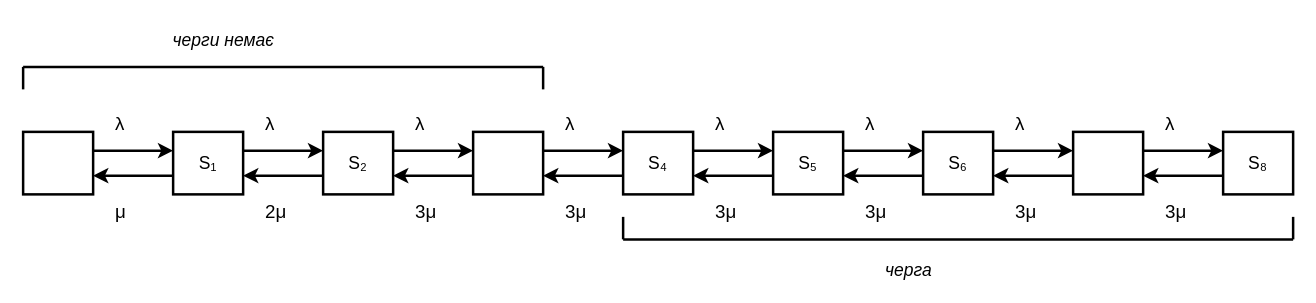
The diagram is 1316 pixels wide and 303 high, and some of its shapes have lost their labels. Here are the shapes that lost their labels. From the top down, the box of each, then its label:
(21, 130, 94, 195): S₀
(471, 130, 544, 195): S₃
(1071, 130, 1144, 195): S₇
